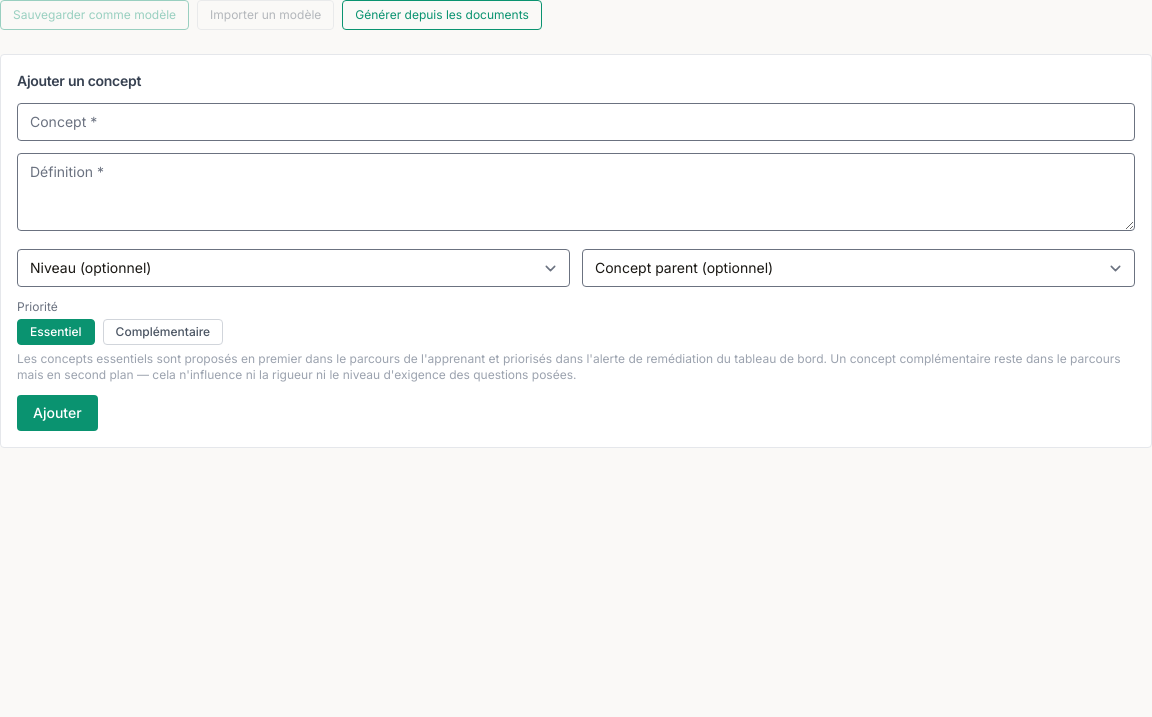
Curriculum — génération › affiche le panneau brouillon après génération
Click the button "Générer depuis les documents". click: (442, 15)
box: [342, 0, 542, 30]
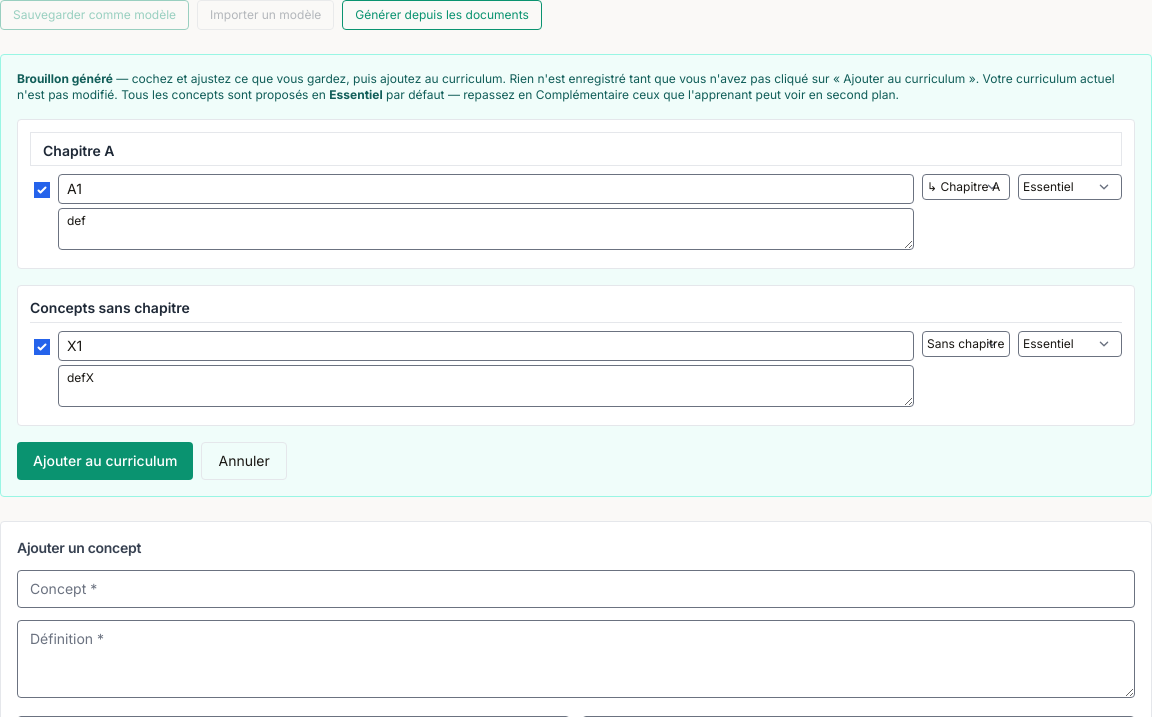
Check: the text "Brouillon généré" is shown, box [17, 71, 113, 86]
Check: the field showing "Chapitre A" is shown, box [30, 132, 1122, 166]
Check: the field showing "A1" is shown, box [58, 174, 914, 204]
